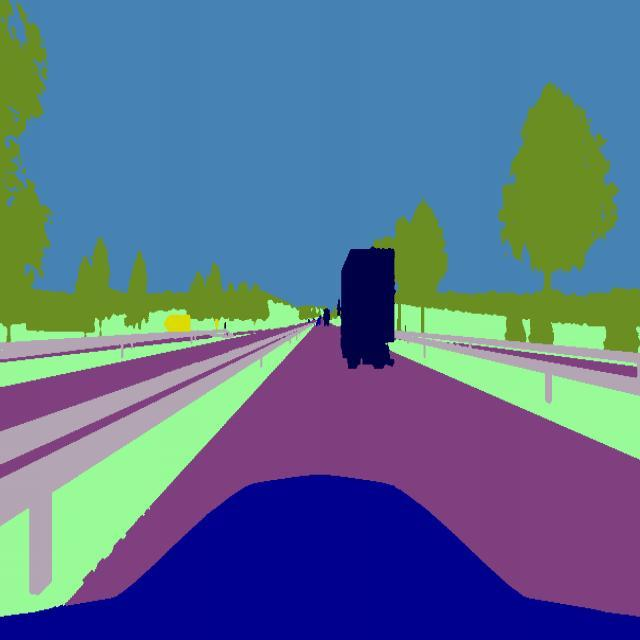safe: (340, 244, 398, 374), (322, 306, 332, 331)
